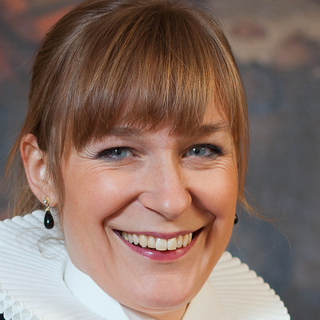eye: (178, 138, 228, 166), (93, 143, 143, 164)
